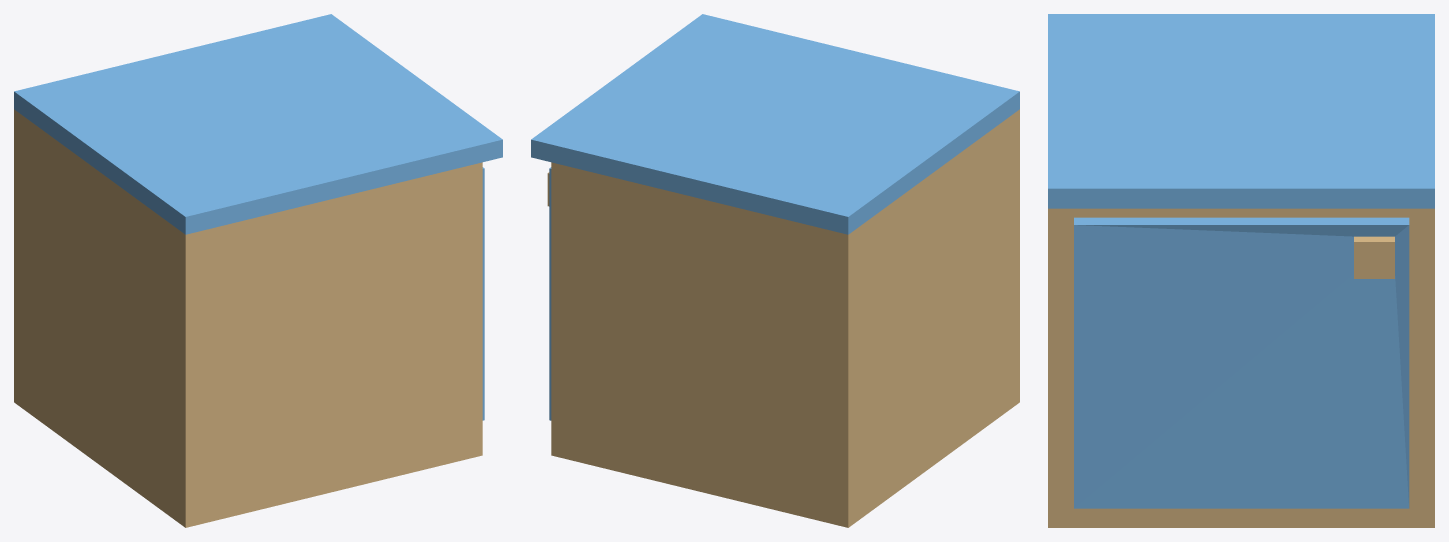
Rendered from Countertop_1Door.fbx.
3 renders of one model, left to right at view 1: azimuth 30°, elevation 25°; view 2: azimuth 150°, elevation 25°; view 3: azimuth 270°, elevation 25°, orthographic. The views are drawn at different scales.
Visible parts, largest first — view 1: Cube; view 2: Cube; view 3: Cube.
Part boxes in pixels (x1,y1,x2,y2): Cube: (14,14,502,527); Cube: (531,14,1019,527); Cube: (1048,14,1434,527).
Bounding box in the file's own units: 214 × 200 × 200.
